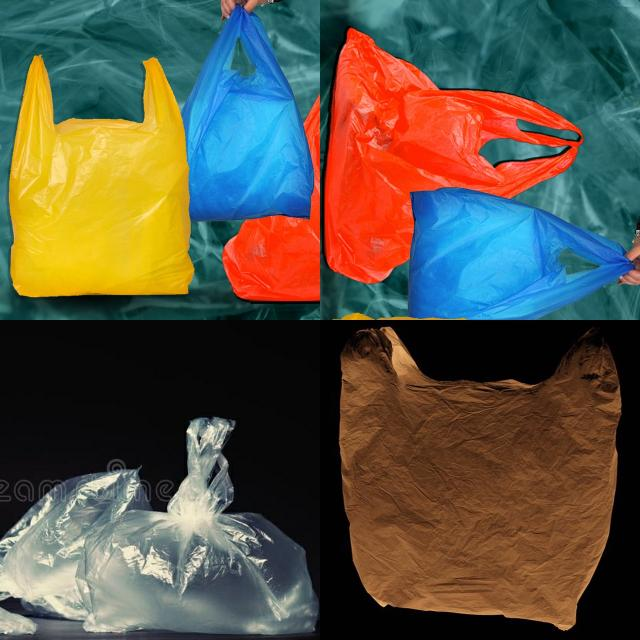Single-layer Plastic: (340, 328, 621, 629), (325, 29, 582, 282), (79, 418, 318, 634), (9, 56, 194, 297), (409, 188, 632, 319), (181, 6, 314, 221), (0, 469, 151, 620), (222, 96, 319, 301)
